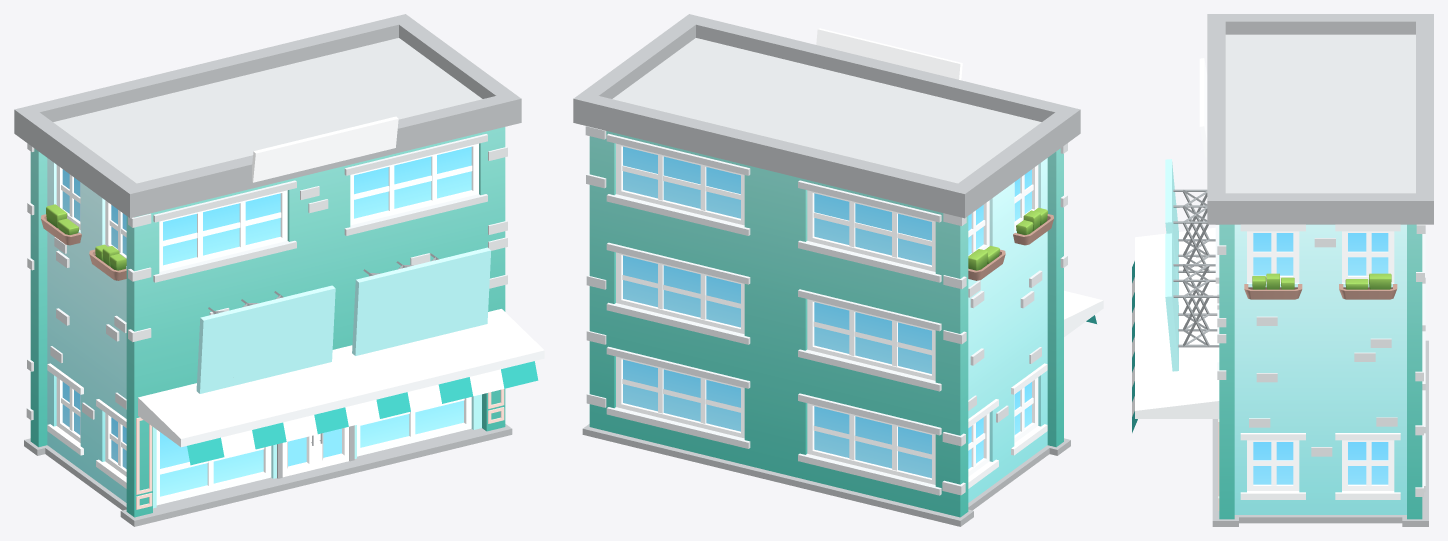
The model's file is Building_Living_22.glb.
The picture shows the model from 3 angles, left to right: view 1: azimuth 30°, elevation 25°; view 2: azimuth 150°, elevation 25°; view 3: azimuth 270°, elevation 25°; orthographic projection. The views are drawn at different scales.
Visible parts, largest first — view 1: Building_Living_22; view 2: Building_Living_22; view 3: Building_Living_22.
Boxes of the visible parts, bbox=[...] form: Building_Living_22: bbox=[14, 14, 544, 526]; Building_Living_22: bbox=[573, 14, 1103, 526]; Building_Living_22: bbox=[1132, 14, 1433, 526].
Bounding box in the file's own units: 13.39 × 11.47 × 9.14.
1 material, 1 textured.
